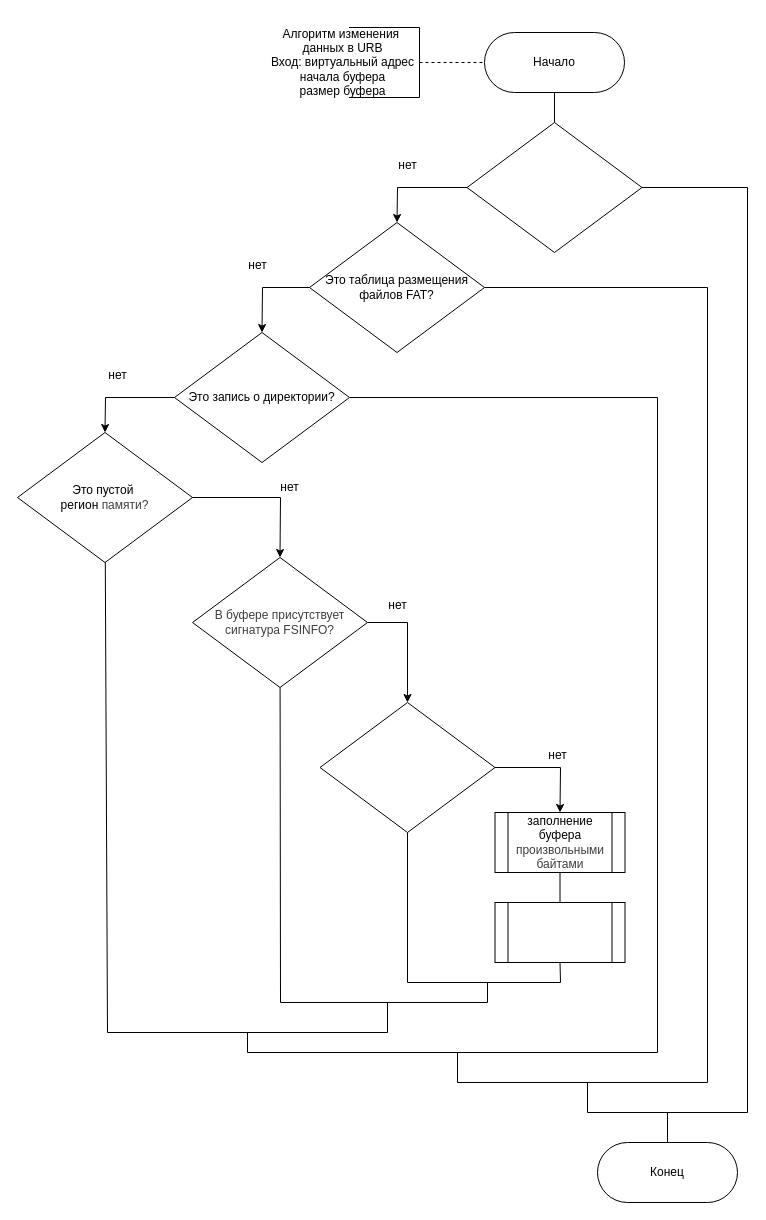
This 766x1220 diagram has some shape labels left out. The shapes that lost their labels are listed below. From the top down, each one's centre as x and y in pixels, then its label:
At (554,187): "Данные по виртуальному адресу начинаются с названия отслеживаемого тома?".
At (407,767): "Буфер полностью состоит из нулей?".
At (559,932): "синхронизация кэша процессора и физической памяти".
